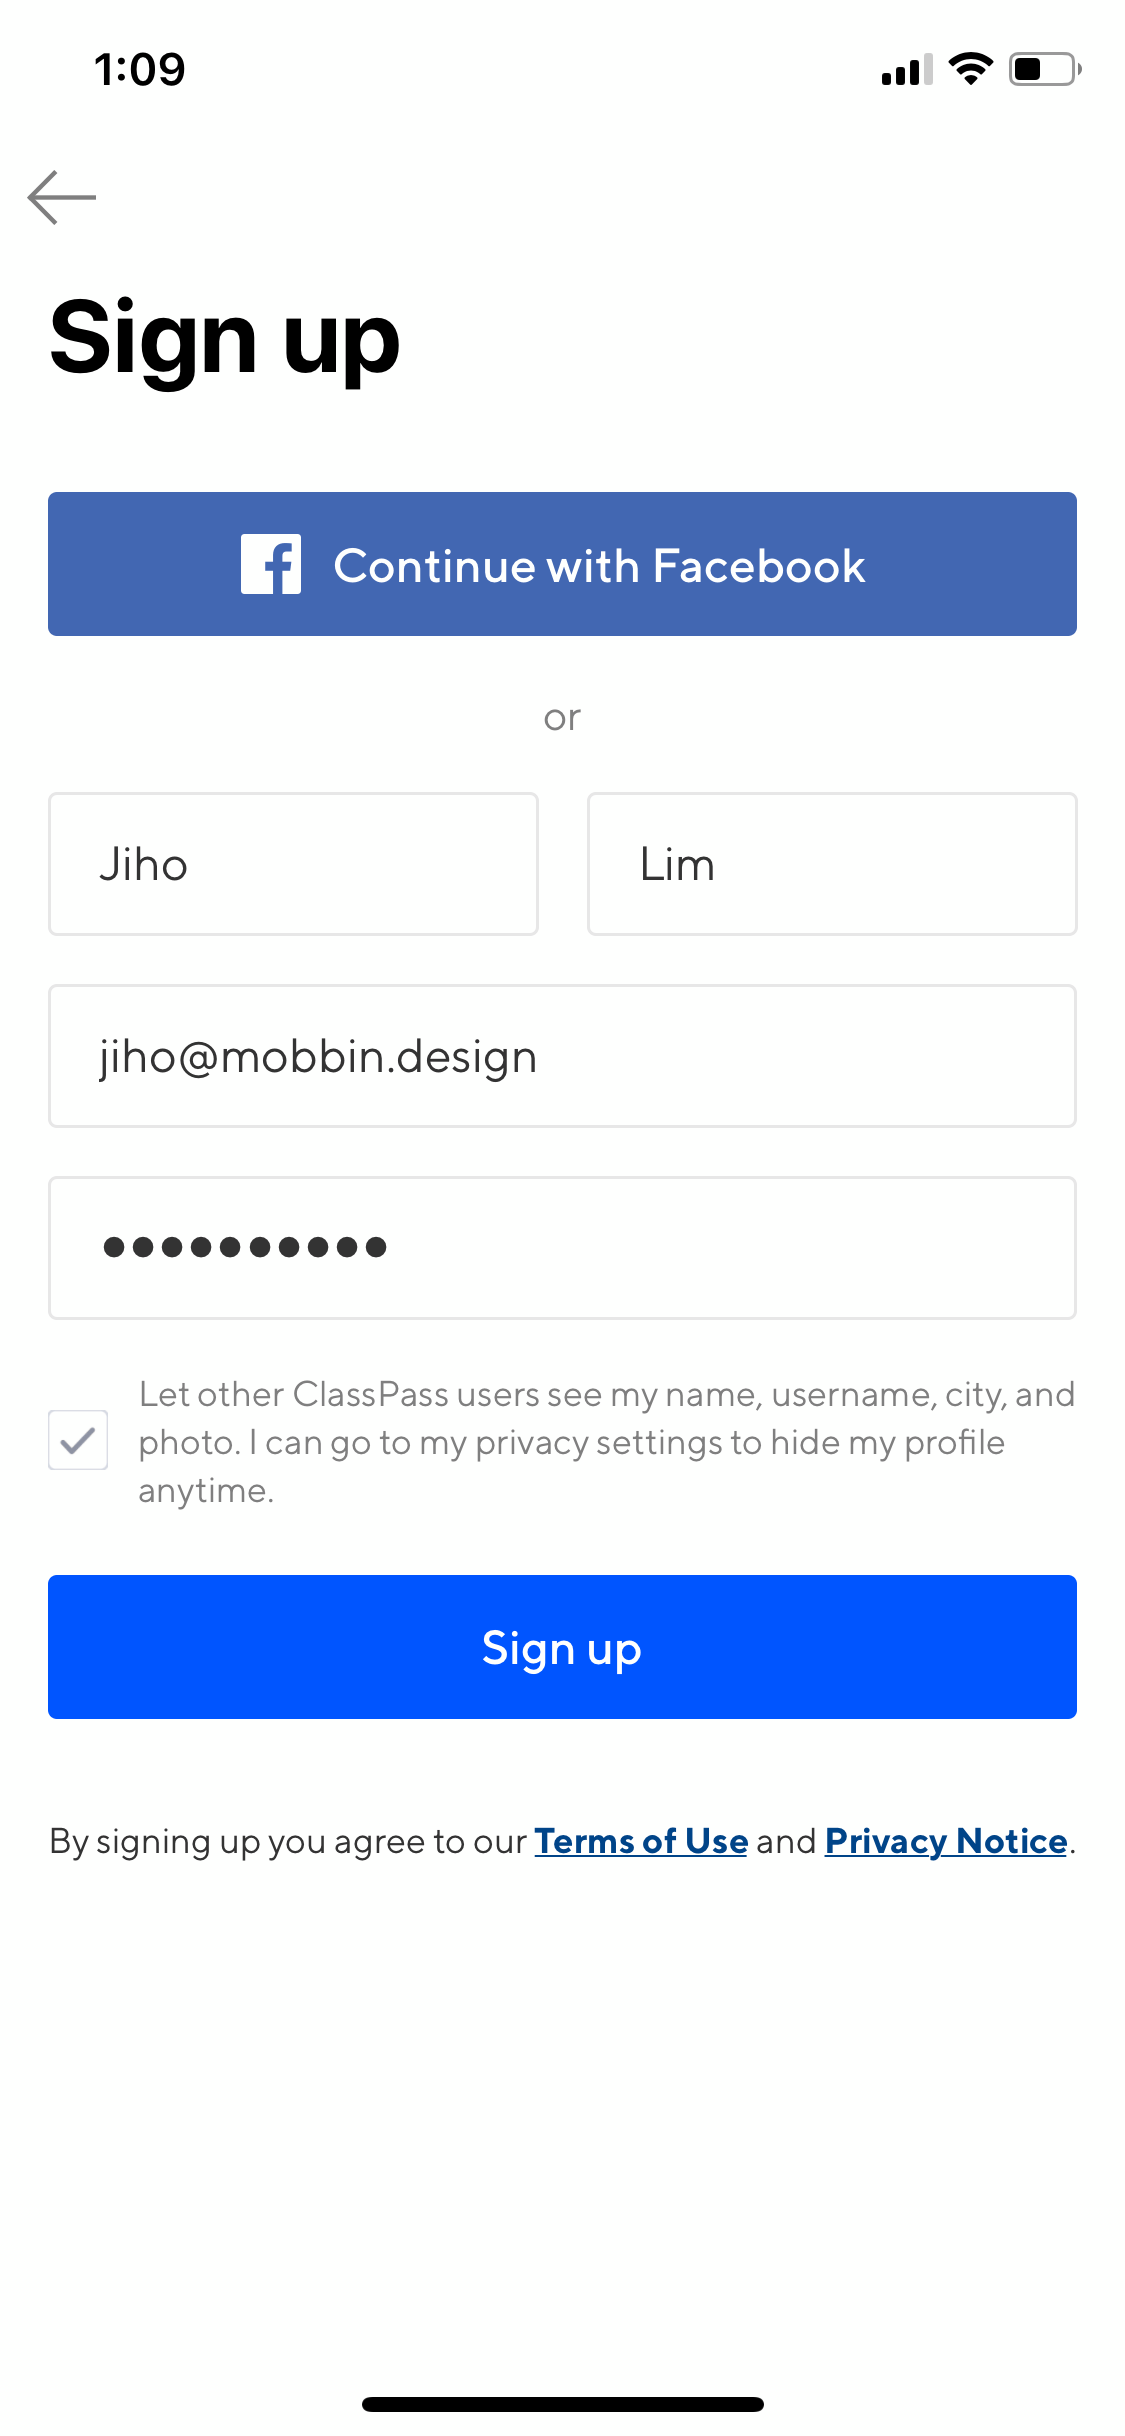Buttons: (28, 474, 1094, 660), (37, 1560, 1094, 1737), (2, 151, 120, 259)
Checkboxes: (36, 1369, 1085, 1522)
Text Fields: (36, 1159, 1085, 1331), (33, 973, 1089, 1143), (33, 778, 558, 949), (573, 778, 1089, 949)
